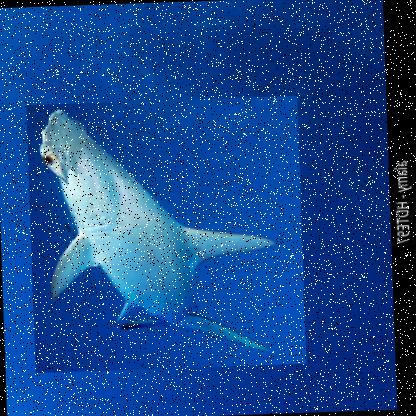hammerhead_Shark: (26, 95, 308, 373)
